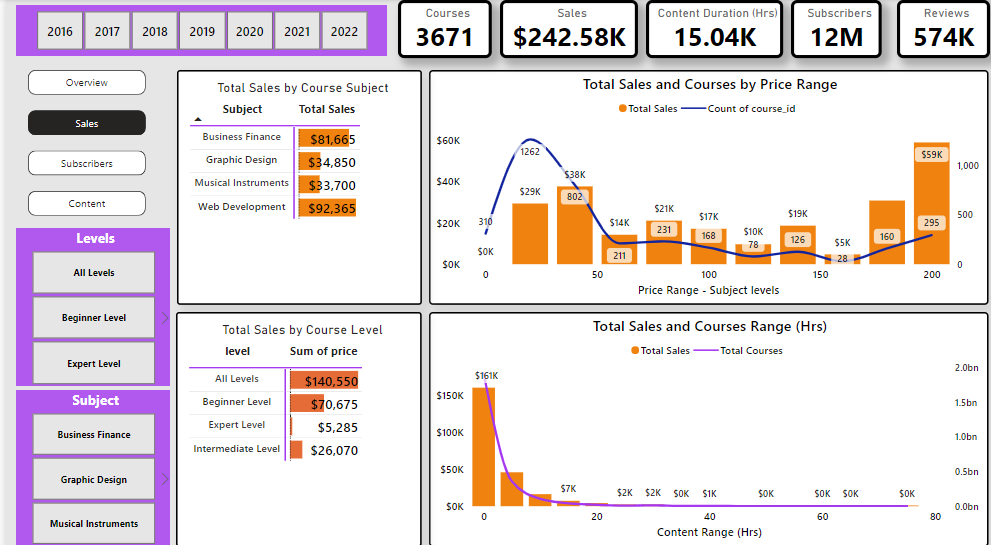

The dashboard page shown, as its layout file describes it:
{"tool":"powerbi","page":{"name":"Sales","canvas":[1280,720],"ordinal":1},"visuals":[{"type":"lineClusteredColumnComboChart","title":"Total Sales and Courses by Price Range","fields":{"Category":["udemy_courses_dataset.price (bins20)"],"Y":["Sum(udemy_courses_dataset.price)"],"Y2":["CountNonNull(udemy_courses_dataset.course_id)"]},"box":[546.4,91.3,721.7,302.9],"z":0},{"type":"lineClusteredColumnComboChart","title":"Total Sales and Courses Range (Hrs) ","fields":{"Category":["udemy_courses_dataset.content_duration (bins)"],"Y":["Sum(udemy_courses_dataset.price)"],"Y2":["Sum(udemy_courses_dataset.course_id)"]},"box":[546.4,404.3,721.7,302.9],"z":1000},{"type":"pivotTable","title":"Total Sales by Course Subject","fields":{"Rows":["udemy_courses_dataset.subject"],"Values":["Sum(udemy_courses_dataset.price)"]},"box":[220.3,91.3,315.9,302.9],"z":2000},{"type":"pivotTable","title":"Total Sales by Course Level","fields":{"Rows":["udemy_courses_dataset.level"],"Values":["Sum(udemy_courses_dataset.price)"]},"box":[218.8,404.3,317.4,302.9],"z":3000},{"type":"card","title":"Courses","fields":{"Values":["Count(udemy_courses_dataset.course_id)"]},"box":[505.2,1.7,121.1,75],"z":4000},{"type":"card","title":"Sales","fields":{"Values":["Sum(udemy_courses_dataset.price)"]},"box":[637.7,1.4,178.3,75.4],"z":5000},{"type":"card","title":"Content Duration (Hrs)","fields":{"Values":["Sum(udemy_courses_dataset.content_duration)"]},"box":[826.1,1.4,176.8,75.4],"z":6000},{"type":"card","title":"Subscribers","fields":{"Values":["Sum(udemy_courses_dataset.num_subscribers)"]},"box":[1013,1.4,117.4,75.4],"z":7000},{"type":"card","title":"Reviews","fields":{"Values":["Sum(udemy_courses_dataset.num_reviews)"]},"box":[1149.3,1.4,120.3,75.4],"z":8000},{"type":"slicer","fields":{"Values":["udemy_courses_dataset.year"]},"box":[10.1,5.8,484.1,71],"z":9000},{"type":"slicer","title":"Levels","fields":{"Values":["udemy_courses_dataset.level"]},"box":[10.1,292.8,204.3,208.7],"z":10000},{"type":"slicer","title":"Subject","fields":{"Values":["udemy_courses_dataset.subject"]},"box":[10.1,501.4,204.3,205.8],"z":11000},{"type":"pageNavigator","box":[29,91.3,152.2,189.9],"z":12000}]}

Visuals, with their boxes in screenshot pixels (x1, y1, x2, y2), scaled from the page's 1280x720 canvas onto the 991x545 screenshot:
"Total Sales and Courses by Price Range" lineClusteredColumnComboChart: [423,69,982,298]
"Total Sales and Courses Range (Hrs) " lineClusteredColumnComboChart: [423,306,982,535]
"Total Sales by Course Subject" pivotTable: [171,69,415,298]
"Total Sales by Course Level" pivotTable: [169,306,415,535]
"Courses" card: [391,1,485,58]
"Sales" card: [494,1,632,58]
"Content Duration (Hrs)" card: [640,1,776,58]
"Subscribers" card: [784,1,875,58]
"Reviews" card: [890,1,983,58]
slicer - udemy_courses_dataset.year: [8,4,383,58]
"Levels" slicer: [8,222,166,380]
"Subject" slicer: [8,380,166,535]
pageNavigator: [22,69,140,213]
